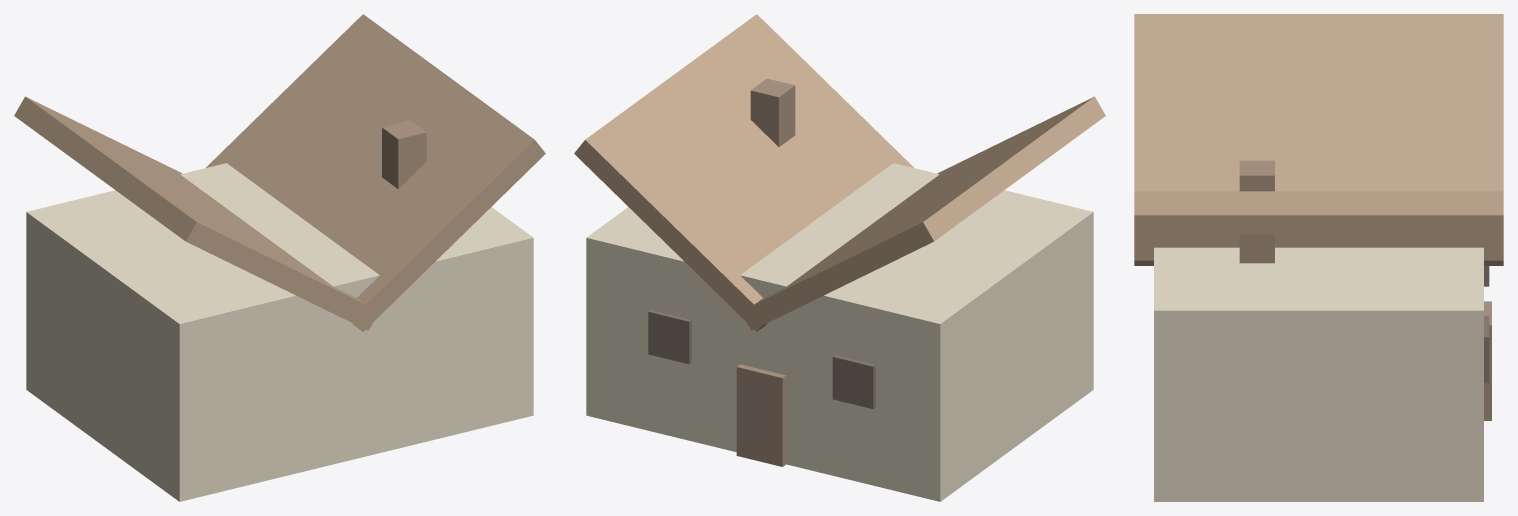
3 views of the same model, side by side, from view 1: azimuth 30°, elevation 25°; view 2: azimuth 150°, elevation 25°; view 3: azimuth 270°, elevation 25° (orthographic). The views are drawn at different scales.
Parts seen in each view (by area): view 1: walls, roof-right, roof-left, chimney; view 2: walls, roof-right, roof-left, door, chimney, window-right, window-left; view 3: walls, roof-left, roof-right, chimney, door.
Part boxes in pixels (<box>): walls: <box>26,163,533,501</box>; roof-right: <box>206,14,545,331</box>; roof-left: <box>14,96,379,330</box>; chimney: <box>382,120,426,188</box>; walls: <box>586,163,1093,501</box>; roof-right: <box>574,14,913,331</box>; roof-left: <box>740,96,1105,330</box>; door: <box>736,364,786,466</box>; chimney: <box>750,78,795,146</box>; window-right: <box>648,310,691,364</box>; window-left: <box>832,355,875,408</box>; walls: <box>1154,247,1483,501</box>; roof-left: <box>1134,14,1503,265</box>; roof-right: <box>1134,191,1503,260</box>; chimney: <box>1239,160,1274,263</box>; door: <box>1484,301,1491,420</box>.
Bounding box in the file's own units: 10.18 × 7.68 × 8.4.
